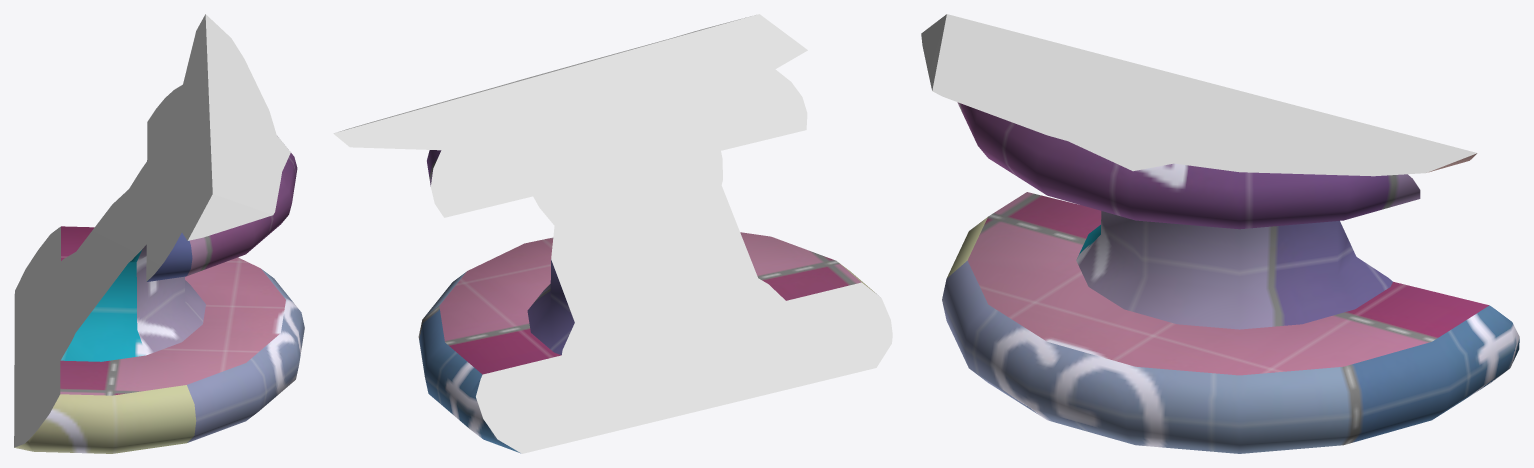
File: MediumUrn_SHAT_cell_003.fbx
3 renders of one model, left to right at view 1: azimuth 30°, elevation 25°; view 2: azimuth 150°, elevation 25°; view 3: azimuth 270°, elevation 25°, orthographic. The views are drawn at different scales.
Parts seen in each view (by area): view 1: MediumUrn_SHAT_cell_003; view 2: MediumUrn_SHAT_cell_003; view 3: MediumUrn_SHAT_cell_003.
Part boxes in pixels (x1=…): MediumUrn_SHAT_cell_003: x1=14, y1=14, x2=304, y2=453; MediumUrn_SHAT_cell_003: x1=333, y1=14, x2=892, y2=453; MediumUrn_SHAT_cell_003: x1=921, y1=14, x2=1519, y2=453.
Bounding box in the file's own units: 0.4738 × 0.3232 × 0.5202.
2 materials, 1 textured.
